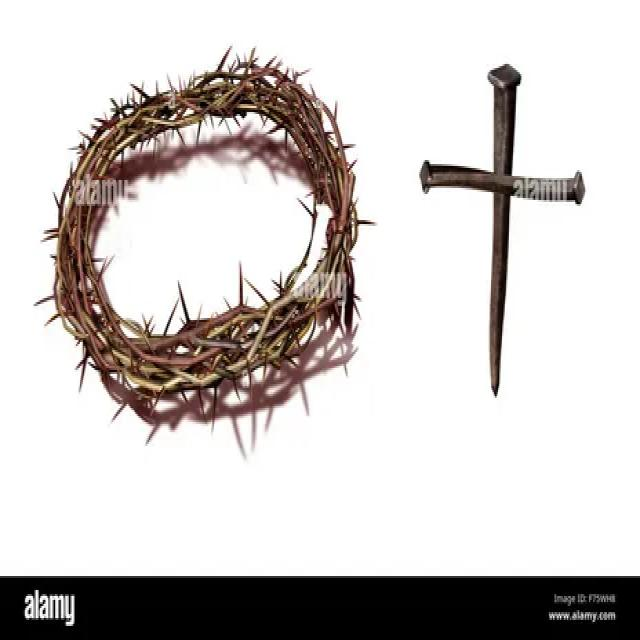crown: (40, 51, 364, 421)
